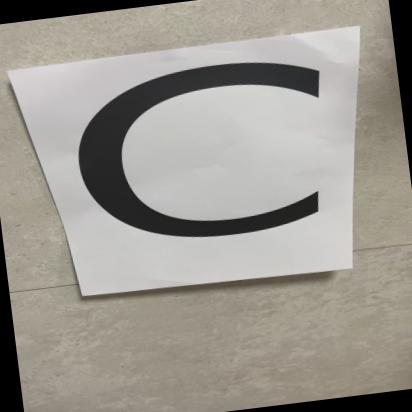seat: (14, 37, 360, 305)
